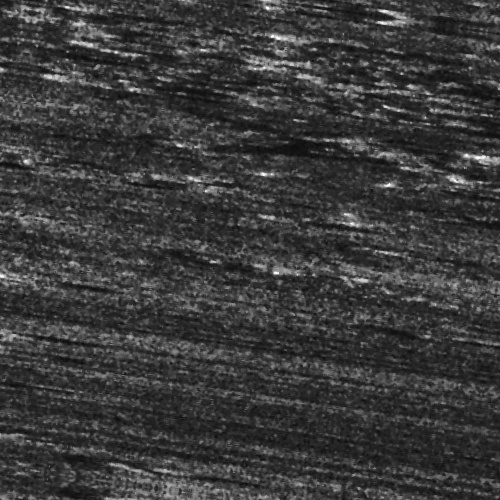object: (21, 55, 104, 74), (402, 119, 500, 130), (222, 28, 327, 37), (0, 303, 77, 310), (318, 0, 371, 9), (0, 359, 56, 366), (36, 30, 89, 35), (242, 208, 295, 213), (0, 412, 46, 417), (15, 380, 46, 383)
shadow: (63, 55, 158, 74), (275, 28, 454, 37), (345, 0, 420, 9), (19, 359, 110, 366), (63, 30, 159, 35), (36, 303, 96, 310), (464, 119, 500, 130), (269, 208, 338, 213), (15, 412, 74, 417), (31, 380, 61, 383)
